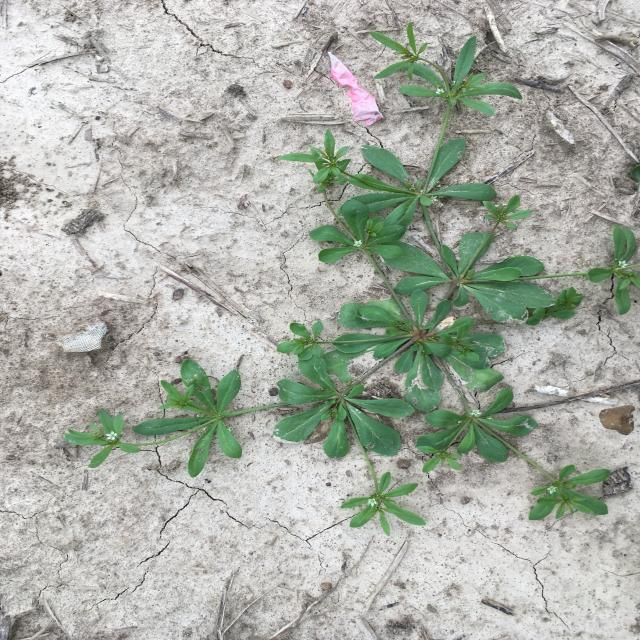Carpetweed: (62, 22, 640, 536)
